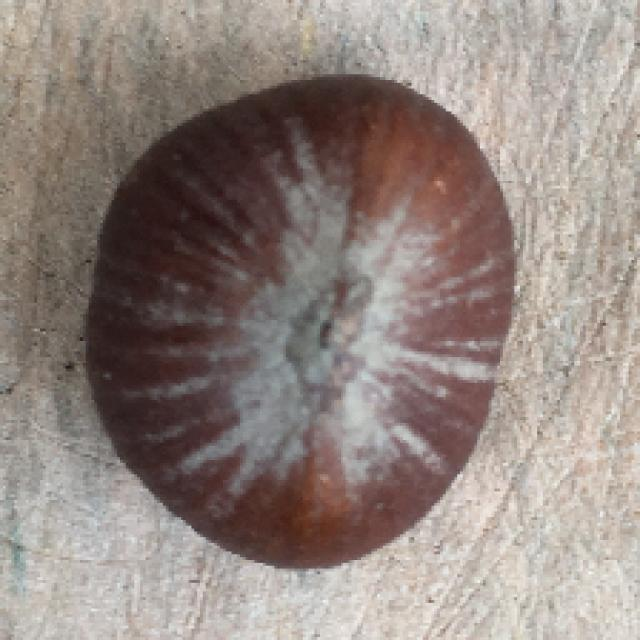qualityHazelnut: (64, 67, 524, 577)
